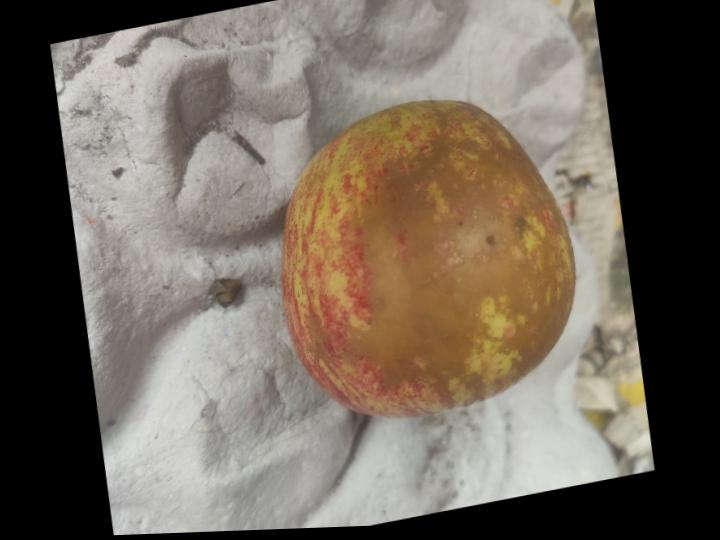apple: (282, 99, 574, 416)
bruise_discoloration: (336, 100, 574, 405)
